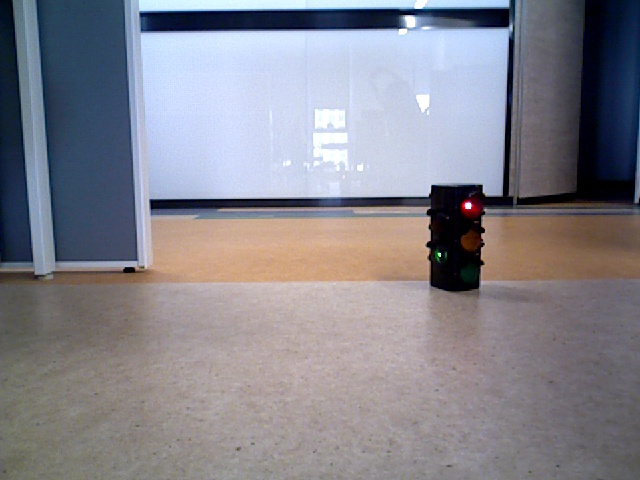red: (432, 187, 479, 286)
